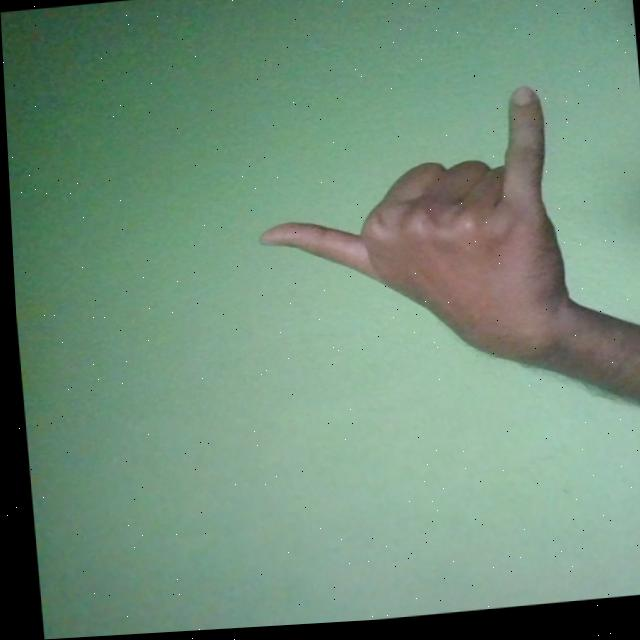Call Me: (246, 87, 571, 394)
